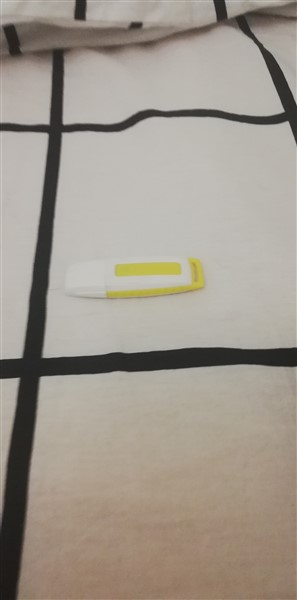flash disk: (61, 251, 210, 307)
